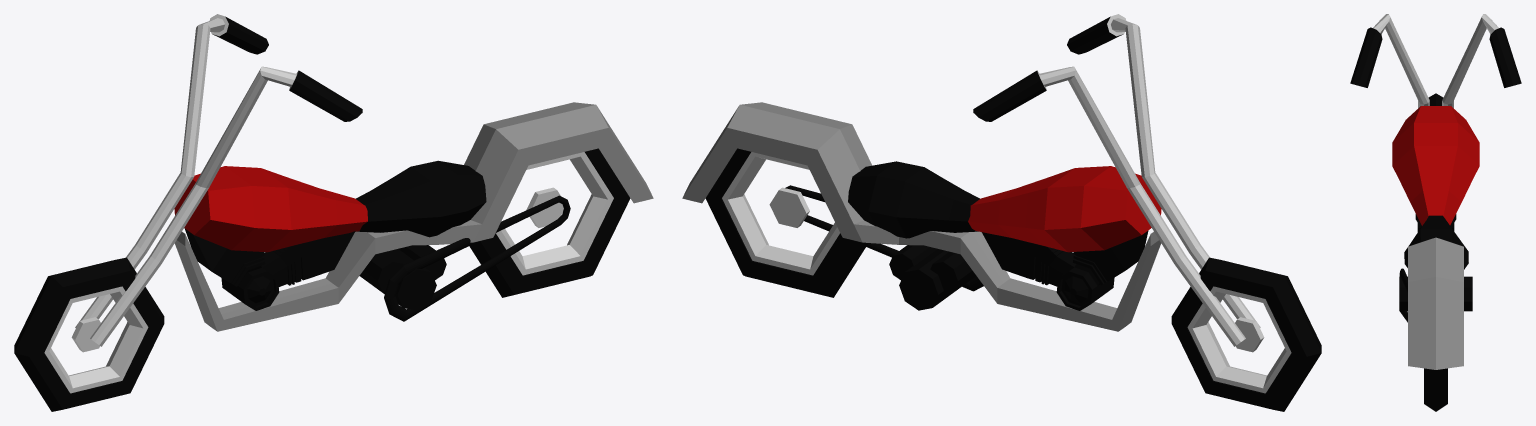
The model's file is SM_Moto.fbx.
The picture shows the model from 3 angles, left to right: view 1: azimuth 30°, elevation 25°; view 2: azimuth 150°, elevation 25°; view 3: azimuth 270°, elevation 25°; orthographic projection. The views are drawn at different scales.
Visible parts, largest first — view 1: Chasis, Cylinder_1_2, Cuerpo, Torus, Asiento, Cylinder_3, Torus_2, Torus_1_2, Cadena, Torus_1, Cylinder, Cylinder_2 (+3 smaller); view 2: Chasis, Cylinder_1_2, Cuerpo, Torus, Asiento, Cylinder_3, Torus_2, Torus_1_2, Torus_1, Cylinder, Cylinder_3_2, Cylinder_2 (+3 smaller); view 3: Cuerpo, Chasis, Cylinder_1_2, Asiento, Torus_2, Cylinder, Cadena.
Boxes of the visible parts, bbox=[...] form: Chasis: bbox=[174, 102, 653, 331]; Cylinder_1_2: bbox=[75, 14, 362, 346]; Cuerpo: bbox=[174, 166, 367, 252]; Torus: bbox=[14, 257, 164, 411]; Asiento: bbox=[355, 160, 486, 237]; Cylinder_3: bbox=[184, 228, 355, 310]; Torus_2: bbox=[469, 148, 630, 297]; Torus_1_2: bbox=[496, 152, 613, 275]; Cadena: bbox=[384, 195, 570, 321]; Torus_1: bbox=[44, 286, 148, 393]; Cylinder: bbox=[359, 249, 436, 310]; Cylinder_2: bbox=[360, 251, 403, 291]; Chasis: bbox=[682, 102, 1161, 331]; Cylinder_1_2: bbox=[973, 14, 1260, 346]; Cuerpo: bbox=[968, 166, 1161, 252]; Torus: bbox=[1171, 257, 1321, 411]; Asiento: bbox=[848, 161, 979, 238]; Cylinder_3: bbox=[981, 230, 1148, 310]; Torus_2: bbox=[705, 148, 868, 297]; Torus_1_2: bbox=[722, 152, 839, 275]; Torus_1: bbox=[1187, 286, 1291, 393]; Cylinder: bbox=[899, 249, 976, 310]; Cylinder_3_2: bbox=[769, 187, 809, 227]; Cylinder_2: bbox=[930, 251, 975, 292]; Cuerpo: bbox=[1392, 106, 1479, 225]; Chasis: bbox=[1408, 237, 1463, 369]; Cylinder_1_2: bbox=[1350, 14, 1521, 108]; Asiento: bbox=[1404, 215, 1468, 269]; Torus_2: bbox=[1424, 368, 1447, 411]; Cylinder: bbox=[1399, 276, 1472, 311]; Cadena: bbox=[1399, 268, 1407, 322].
Size of the model in its own units: 133 by 64.86 by 38.74.
